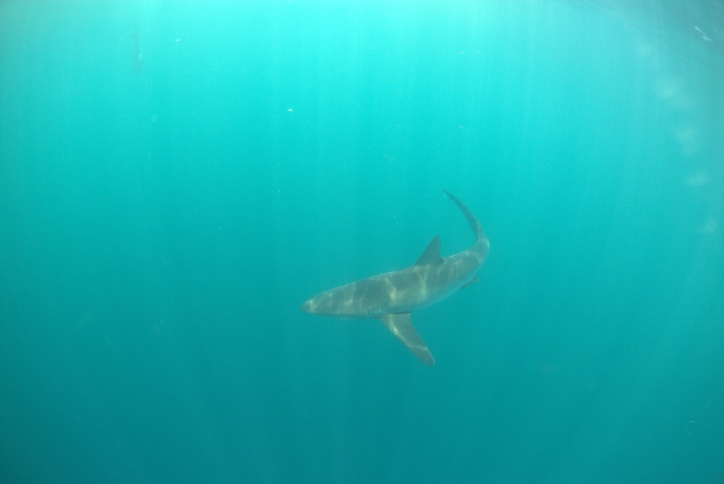Sedoso: (296, 179, 500, 380)
